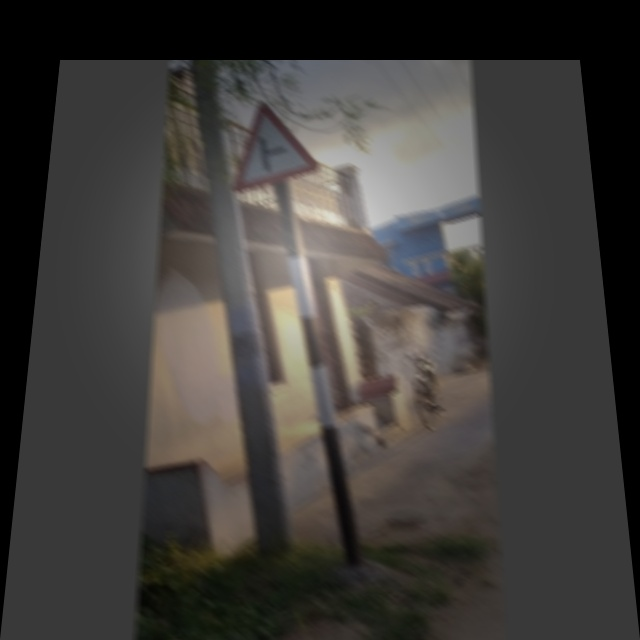Side_Road_Right: (231, 95, 321, 190)
